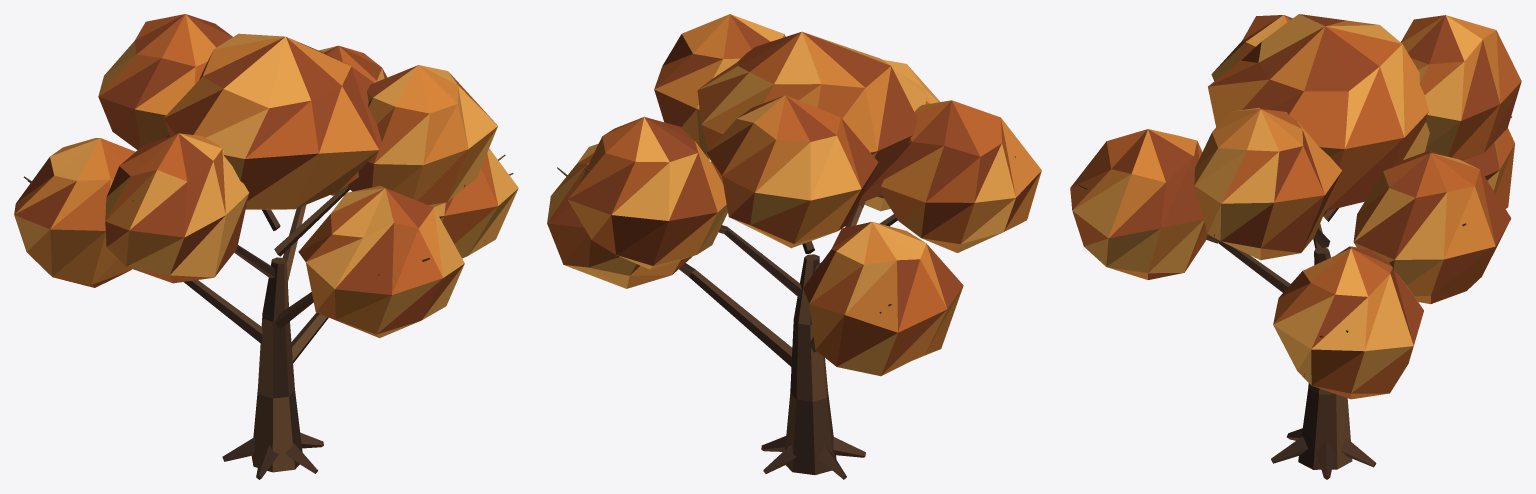
Rendered from tree_apple_autumn.obj.
3 views of the same model, side by side, from view 1: azimuth 30°, elevation 25°; view 2: azimuth 150°, elevation 25°; view 3: azimuth 270°, elevation 25° (orthographic). The views are drawn at different scales.
Parts seen in each view (by area): view 1: tree_apple_autumn; view 2: tree_apple_autumn; view 3: tree_apple_autumn.
Boxes of the visible parts, x1,y1,x2,y2 form: tree_apple_autumn: (14, 14, 518, 479); tree_apple_autumn: (547, 14, 1041, 479); tree_apple_autumn: (1070, 14, 1521, 479).
Bounding box in the file's own units: 303 × 280 × 262.
Materials: 1 (1 with a texture image).
